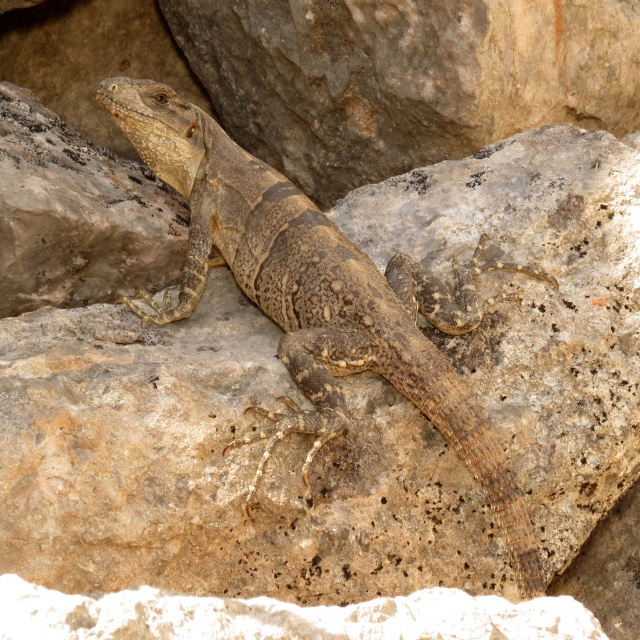Lizard: (110, 59, 566, 538)
